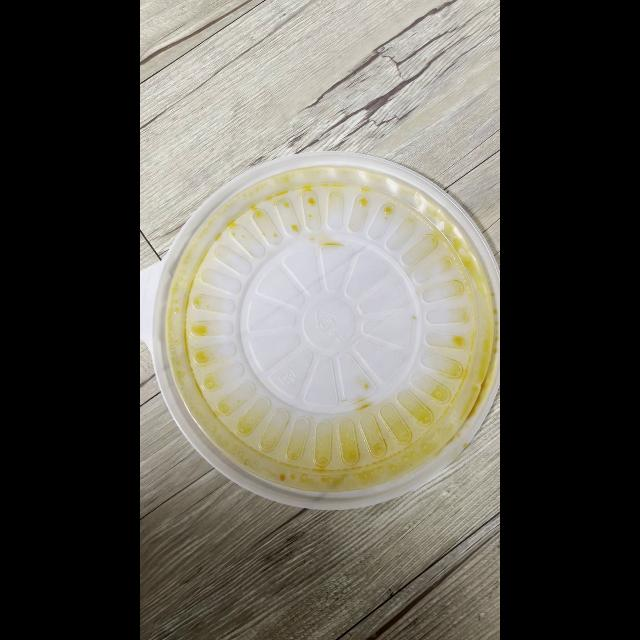dirty: (140, 164, 500, 504)
